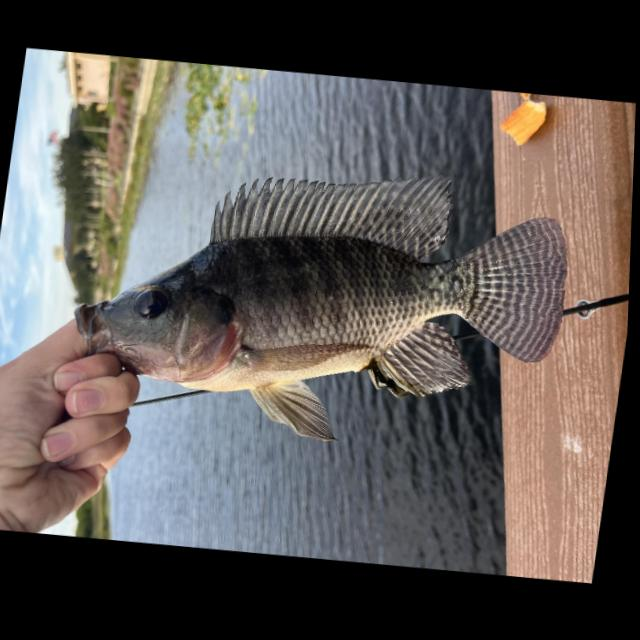Tilapia: (55, 132, 582, 464)
